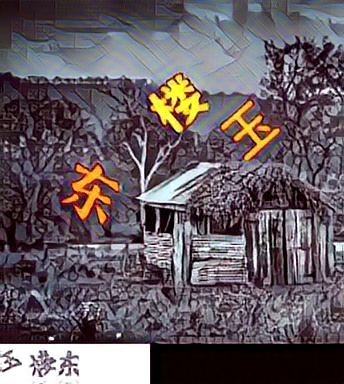B6AB: (57, 161, 124, 225)
C2A5: (146, 69, 213, 133)
D3F1: (217, 100, 284, 164)
